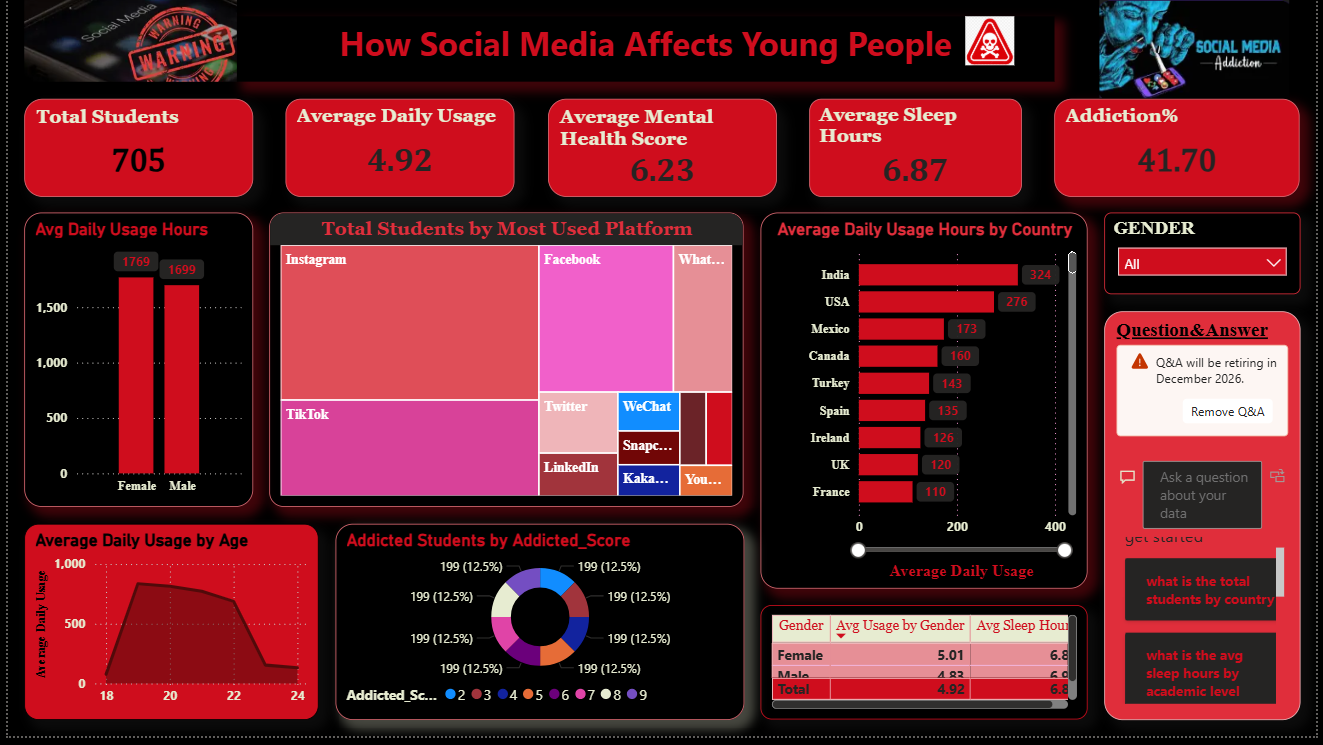

The page's visual inventory and layout, read from the dashboard file:
{"tool":"powerbi","page":{"name":"Page 1","canvas":[1280,720],"ordinal":0},"visuals":[{"type":"card","title":"Total Students","fields":{"Values":["Students Social Media Addiction.csv.Total Students"]},"box":[16,96,224,96],"z":0},{"type":"card","title":"Average Sleep Hours","fields":{"Values":["Students Social Media Addiction.csv.Avg Sleep Hours"]},"box":[784,96,208,96],"z":1000},{"type":"card","title":"Average Mental Health Score","fields":{"Values":["Students Social Media Addiction.csv.Avg Mental Health Score"]},"box":[528,96,224,96],"z":2000},{"type":"card","title":"Average Daily Usage","fields":{"Values":["Students Social Media Addiction.csv.Avg Daily Usage"]},"box":[272,96,224,96],"z":3000},{"type":"clusteredColumnChart","title":"Avg Daily Usage Hours ","fields":{"Category":["Students Social Media Addiction.csv.Gender"],"Y":["Sum(Students Social Media Addiction.csv.Avg_Daily_Usage_Hours)"]},"box":[16,208,224,288],"z":4000},{"type":"treemap","title":"Total Students by Most Used Platform","fields":{"Group":["Students Social Media Addiction.csv.Most_Used_Platform"],"Values":["Students Social Media Addiction.csv.Total Students"]},"box":[256,208,464,288],"z":5000},{"type":"barChart","title":"Average Daily Usage Hours by Country","fields":{"Category":["Students Social Media Addiction.csv.Country"],"Y":["Sum(Students Social Media Addiction.csv.Avg_Daily_Usage_Hours)"]},"box":[736,208,320,368],"z":6000},{"type":"lineChart","title":"Average Daily Usage  by Age","fields":{"Y":["Sum(Students Social Media Addiction.csv.Avg_Daily_Usage_Hours)"],"Category":["Students Social Media Addiction.csv.Age"]},"box":[16,512,288,192],"z":7000},{"type":"tableEx","fields":{"Values":["Students Social Media Addiction.csv.Gender","Students Social Media Addiction.csv.Avg Usage by Gender","Students Social Media Addiction.csv.Avg Sleep Hours"]},"box":[736,592,320,112],"z":8000},{"type":"card","title":"Addiction%","fields":{"Values":["Students Social Media Addiction.csv.Addiction %"]},"box":[1024,96,240,96],"z":9000},{"type":"donutChart","fields":{"Category":["Students Social Media Addiction.csv.Addicted_Score"],"Y":["Students Social Media Addiction.csv.Addicted Students"]},"box":[320,512,400,192],"z":10000},{"type":"textbox","box":[224,16,800,64],"z":11000},{"type":"qnaVisual","title":"Question&Answer","box":[1072,304,192,400],"z":12000},{"type":"image","box":[1072,0,176,80],"z":13000},{"type":"slicer","title":"GENDER","fields":{"Values":["Students Social Media Addiction.csv.Gender"]},"box":[1072,208,192,80],"z":14000},{"type":"image","box":[1056,0,208,96],"z":15000},{"type":"image","box":[880,16,160,48],"z":16000},{"type":"image","box":[16,0,208,80],"z":17000}]}

Visuals, with their boxes in screenshot pixels (x1, y1, x2, y2), scaled from the page's 1280x720 canvas onto the 1323x745 screenshot:
"Total Students" card: 17/99/248/199
"Average Sleep Hours" card: 810/99/1025/199
"Average Mental Health Score" card: 546/99/777/199
"Average Daily Usage" card: 281/99/513/199
"Avg Daily Usage Hours " clusteredColumnChart: 17/215/248/513
"Total Students by Most Used Platform" treemap: 265/215/744/513
"Average Daily Usage Hours by Country" barChart: 761/215/1091/596
"Average Daily Usage  by Age" lineChart: 17/530/314/728
tableEx - Students Social Media Addiction.csv.Gender x Students Social Media Addiction.csv.Avg Usage by Gender: 761/613/1091/728
"Addiction%" card: 1058/99/1306/199
donutChart - Students Social Media Addiction.csv.Addicted_Score x Students Social Media Addiction.csv.Addicted Students: 331/530/744/728
textbox: 232/17/1058/83
"Question&Answer" qnaVisual: 1108/315/1306/728
image: 1108/0/1290/83
"GENDER" slicer: 1108/215/1306/298
image: 1091/0/1306/99
image: 910/17/1075/66
image: 17/0/232/83
